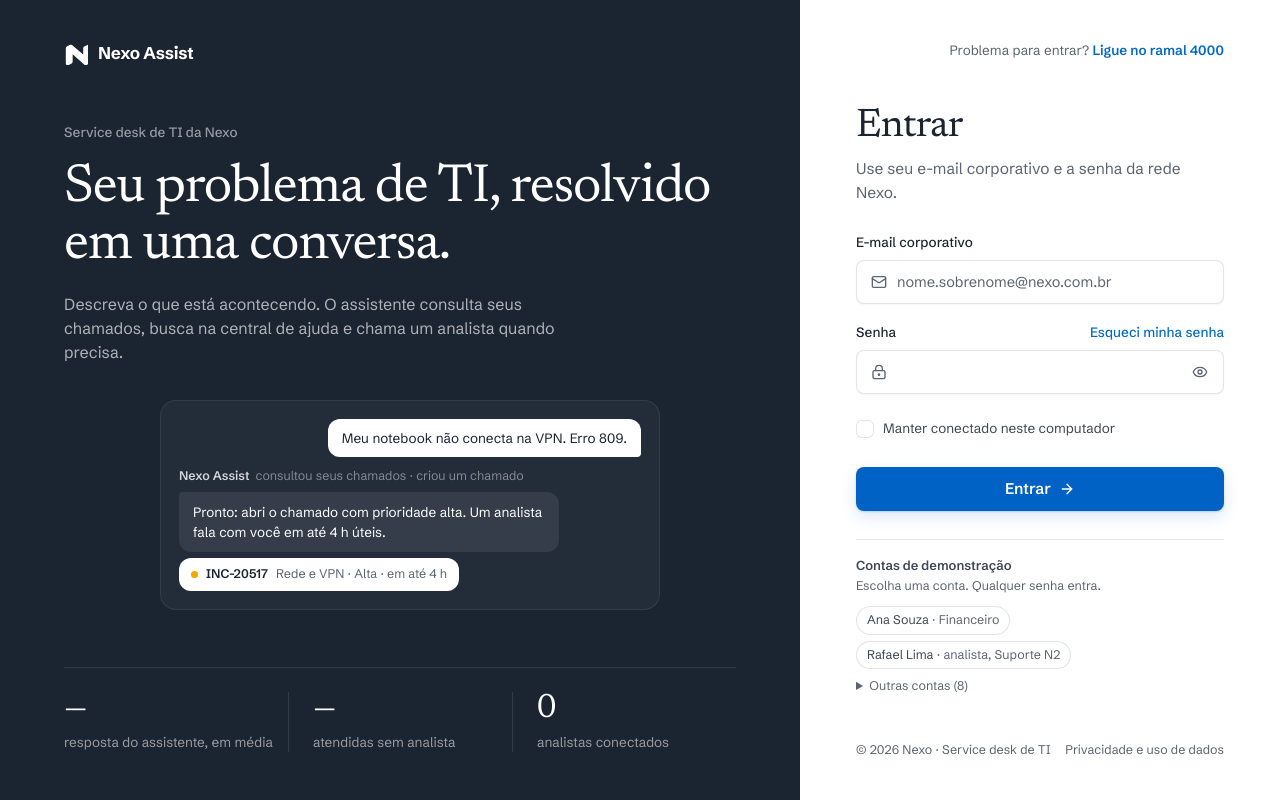
Test: tela de login (RF01, tela 1) › 'Esqueci minha senha' explica que, na demonstração, qualquer senha entra
Step 1. Click the button "Esqueci minha senha" → {"x": 1157, "y": 332}, box [1090, 322, 1224, 342]
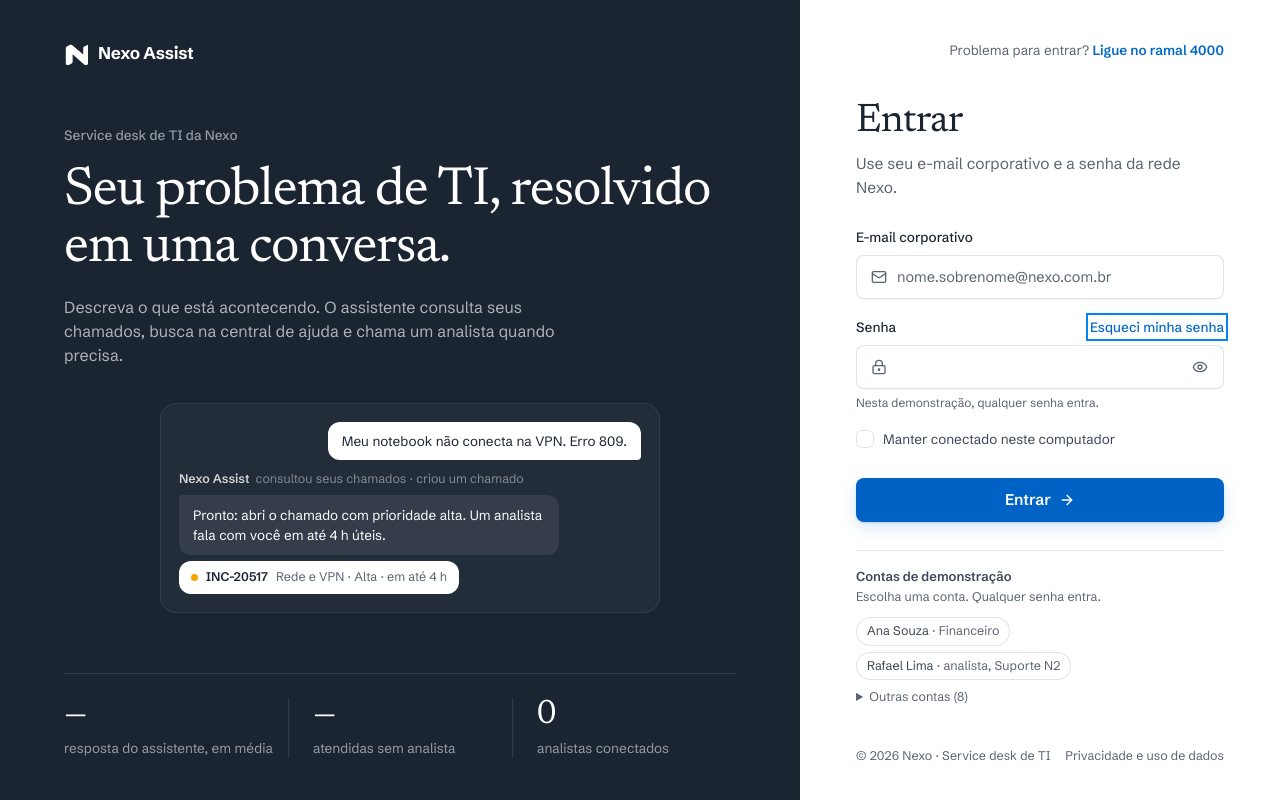
Now the text "Nesta demonstração, qualquer senha entra." is shown, box [856, 395, 1099, 410]
